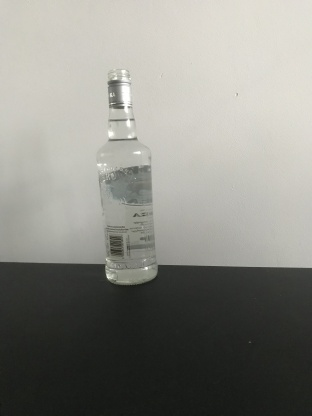nakretka: (105, 65, 134, 109)
